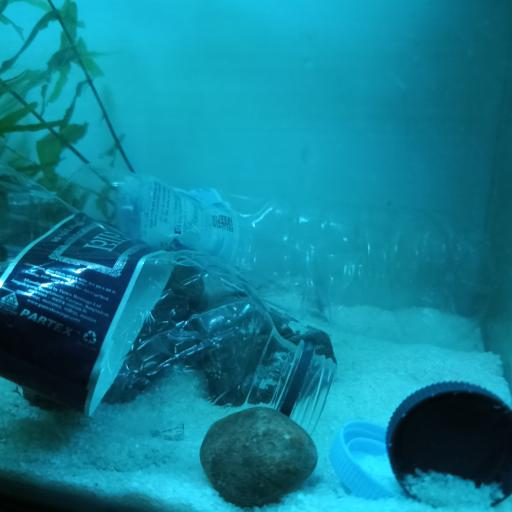bottle_cap: (386, 381, 512, 510), (332, 422, 394, 500)
plastic_bottle: (0, 160, 336, 439), (34, 161, 493, 349)
